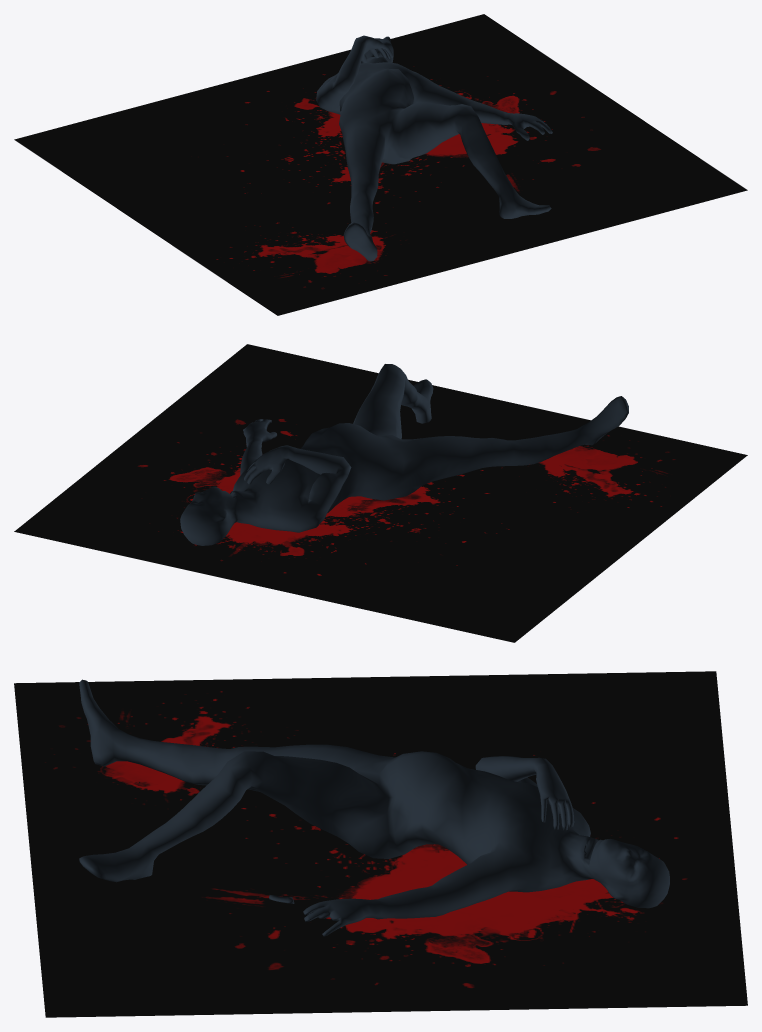
The model's file is RE_CellDeadBody.FBX.
The picture shows the model from 3 angles, top to bottom: view 1: azimuth 30°, elevation 25°; view 2: azimuth 150°, elevation 25°; view 3: azimuth 270°, elevation 25°; orthographic projection. The views are drawn at different scales.
Visible parts, largest first — view 1: RE_SceneDeadBody; view 2: RE_SceneDeadBody; view 3: RE_SceneDeadBody.
Part boxes in pixels (box(x1,y1,x2,y2)): RE_SceneDeadBody: box(14, 14, 747, 315); RE_SceneDeadBody: box(14, 344, 747, 642); RE_SceneDeadBody: box(14, 671, 747, 1017).
Bounding box in the file's own units: 68.66 × 11.51 × 61.49.
2 materials, 1 textured.
